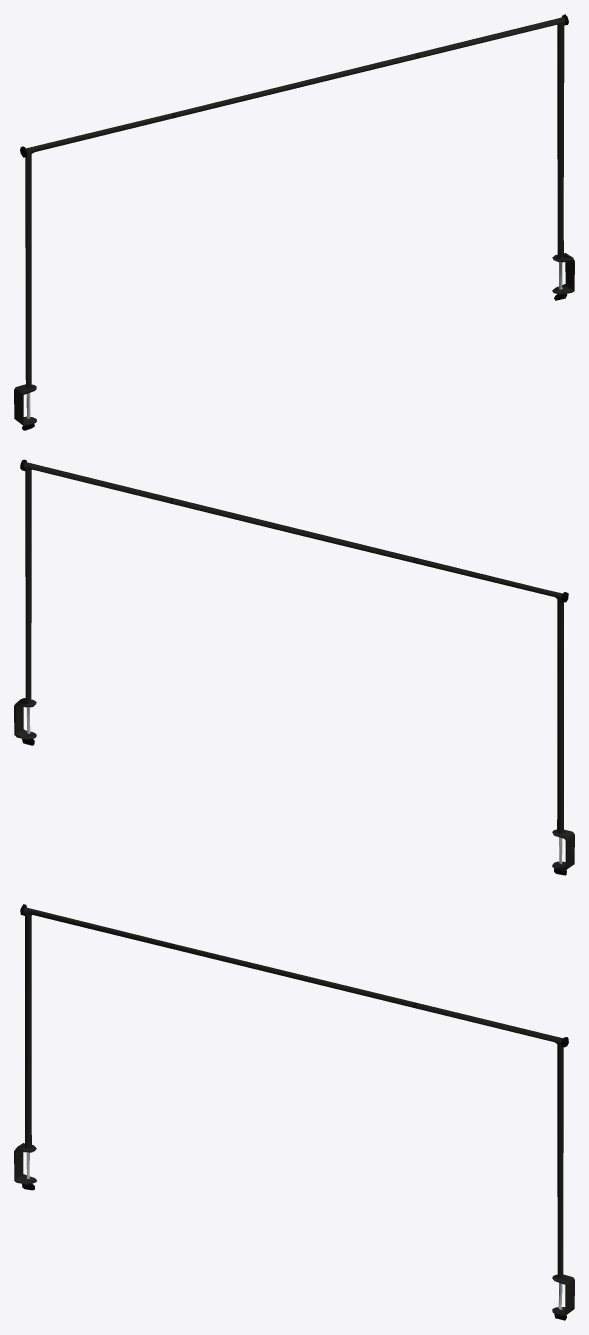
File: 14 - HELGEÖ Decorating rod for table - black adjustableoutdoor indoor 115235x116 cm.glb
3 renders of one model, top to bottom at view 1: azimuth 30°, elevation 25°; view 2: azimuth 150°, elevation 25°; view 3: azimuth 330°, elevation 25°, orthographic.
Parts seen in each view (by area): view 1: model; view 2: model; view 3: model.
Boxes of the visible parts, x1,y1,x2,y2 form: model: [14, 14, 574, 430]; model: [14, 459, 574, 875]; model: [14, 904, 574, 1320].
Bounding box in the file's own units: 2.36 × 1.16 × 0.062.
Materials: 1 (1 with a texture image).
